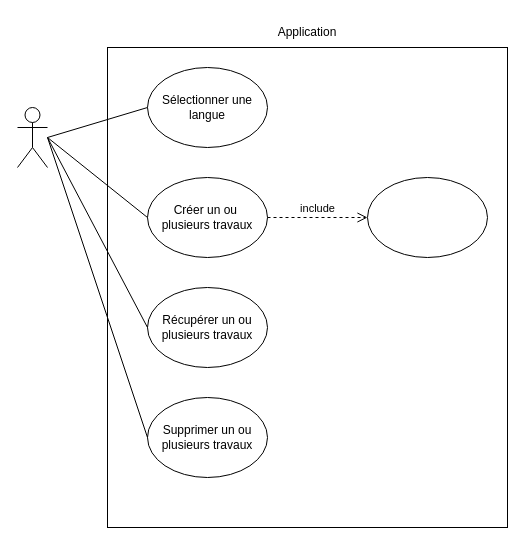
Some shapes in this 525 by 545 pixel diagram are drawn without their labels. Here are the shapes that lost their labels. From the top down, the centre of each, then its label:
At pixel 32 137: "Actor".
At pixel 427 217: "Modifier un travail".
